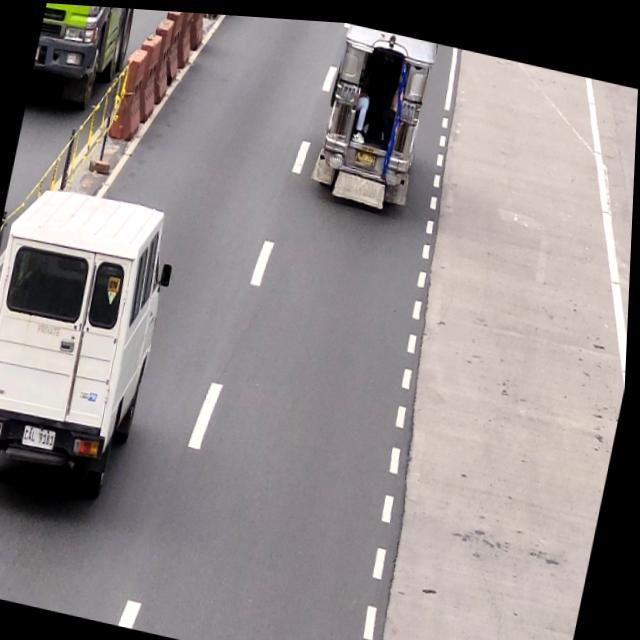Car: (0, 179, 176, 524)
Jeep: (314, 17, 440, 200)
License-Plate: (23, 422, 61, 455)
